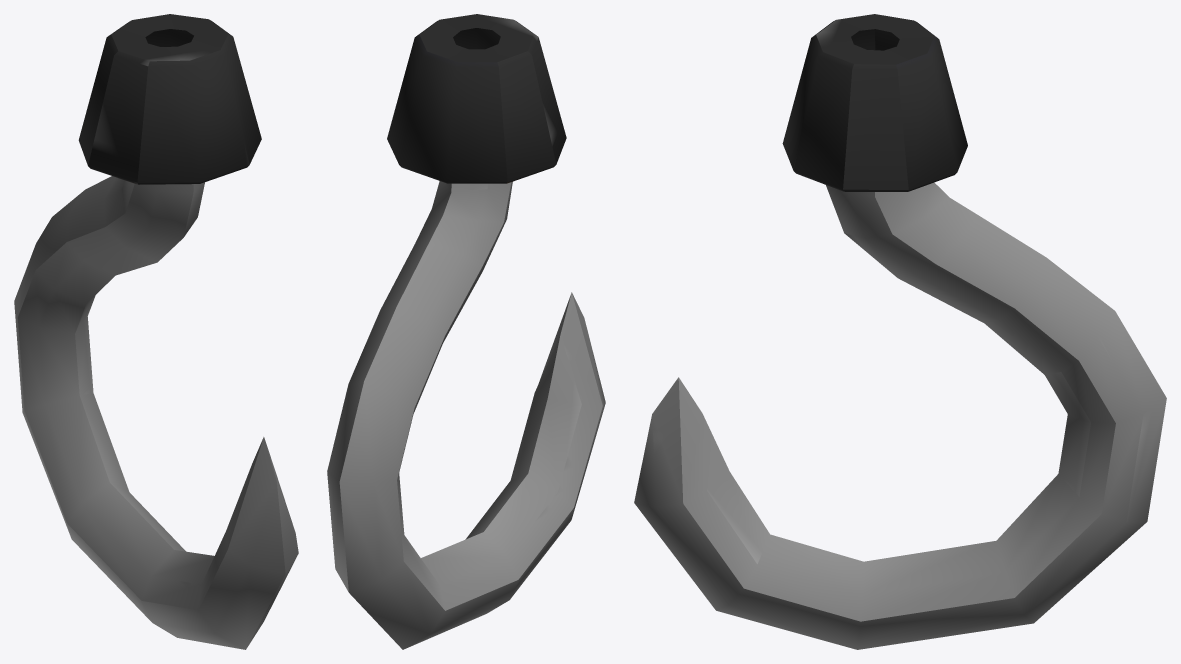
The model's file is Hook.fbx.
The picture shows the model from 3 angles, left to right: view 1: azimuth 30°, elevation 25°; view 2: azimuth 150°, elevation 25°; view 3: azimuth 270°, elevation 25°; orthographic projection. The views are drawn at different scales.
Parts seen in each view (by area): view 1: Hook; view 2: Hook; view 3: Hook.
Part boxes in pixels (<box>): Hook: <box>14,14,298,649</box>; Hook: <box>327,14,605,649</box>; Hook: <box>634,14,1166,649</box>.
Bounding box in the file's own units: 1.67 × 6.01 × 4.74.
Materials: 1 (1 with a texture image).
